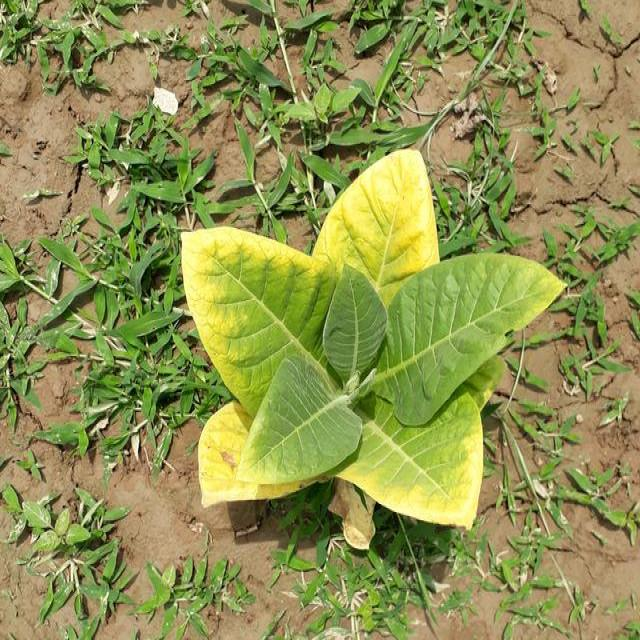crop: (178, 146, 565, 544)
